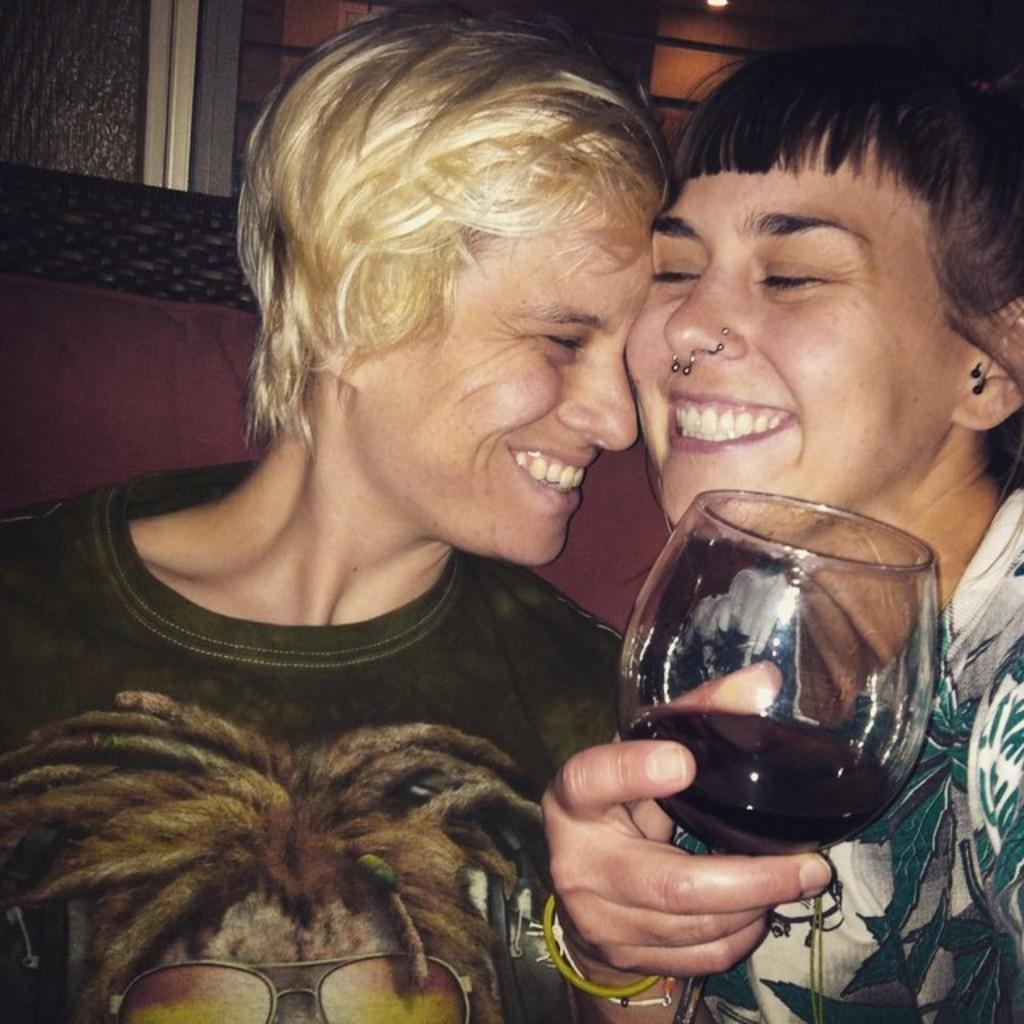glass-wine: (613, 486, 936, 1024)
